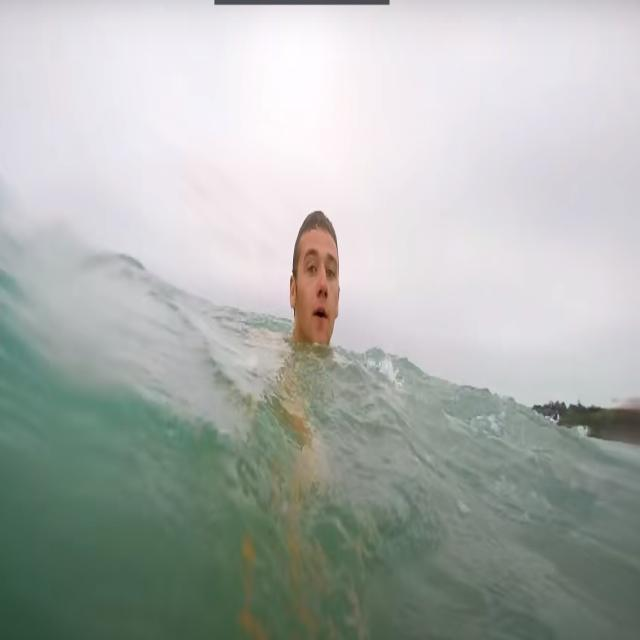Out of Water: (284, 200, 346, 365)
